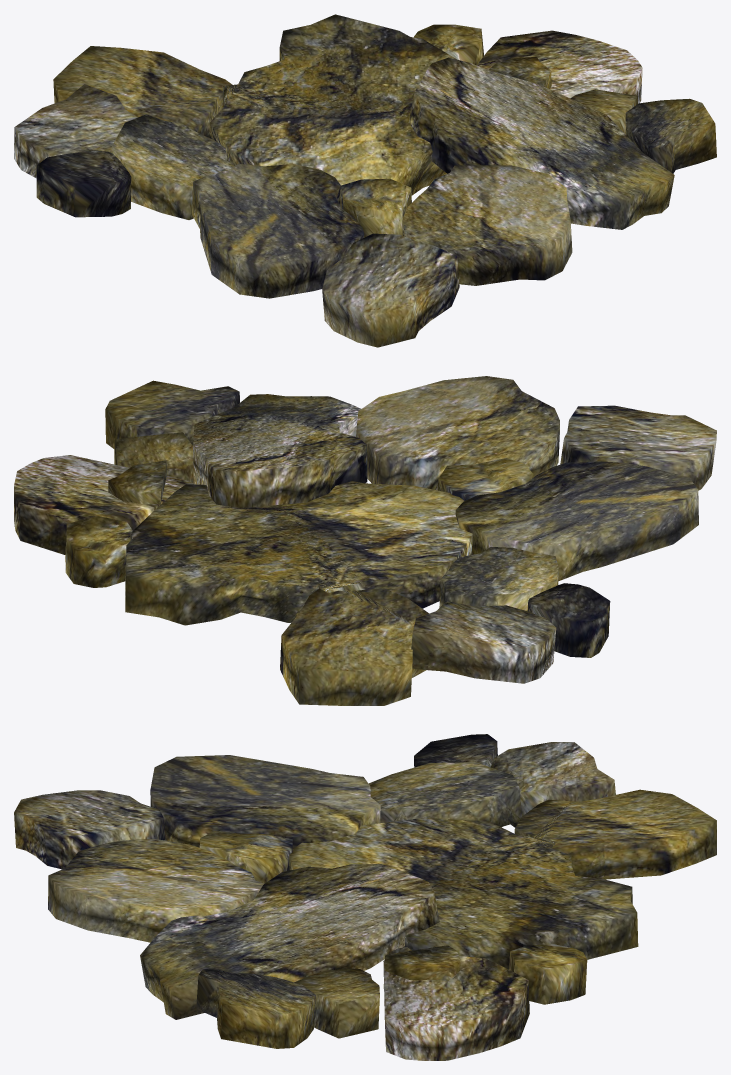
The picture shows the model from 3 angles, top to bottom: view 1: azimuth 30°, elevation 25°; view 2: azimuth 150°, elevation 25°; view 3: azimuth 270°, elevation 25°; orthographic projection. The views are drawn at different scales.
Visible parts, largest first — view 1: polySurface447:polySurface447_0; view 2: polySurface447:polySurface447_0; view 3: polySurface447:polySurface447_0.
Boxes of the visible parts, x1,y1,x2,y2 form: polySurface447:polySurface447_0: [14, 14, 716, 347]; polySurface447:polySurface447_0: [14, 376, 716, 705]; polySurface447:polySurface447_0: [14, 734, 716, 1060].
Bounding box in the file's own units: 31.75 × 4.27 × 33.23.
Materials: 1 (1 with a texture image).
